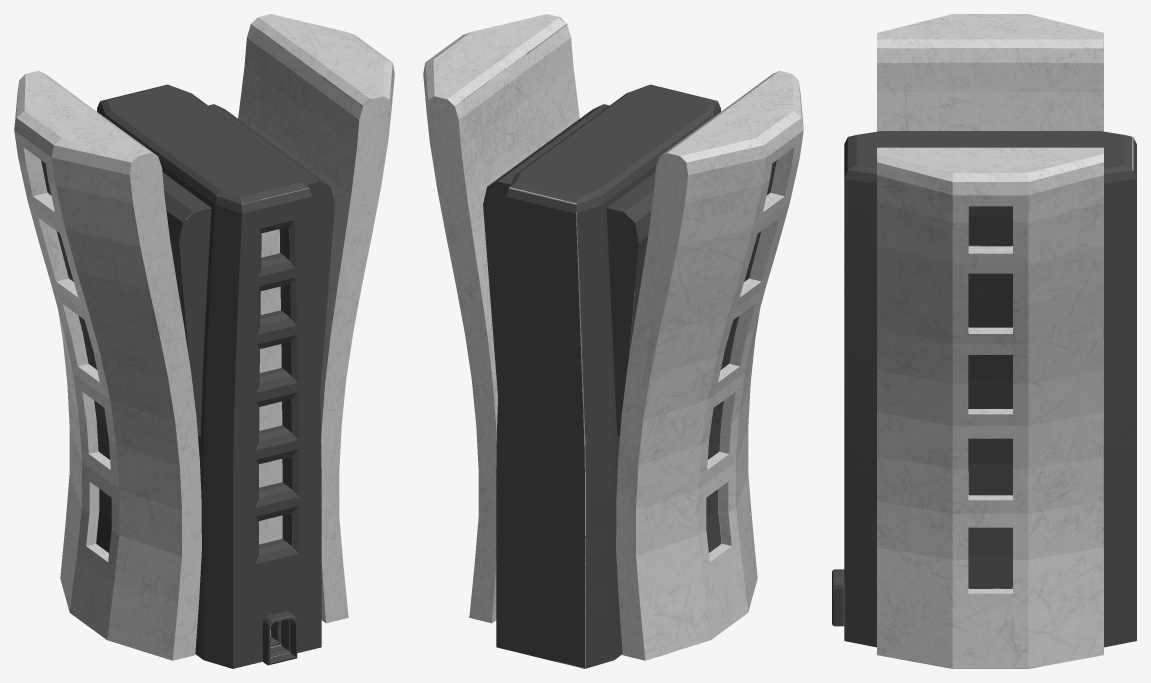
Rendered from NotPs5.fbx.
The picture shows the model from 3 angles, left to right: view 1: azimuth 30°, elevation 25°; view 2: azimuth 150°, elevation 25°; view 3: azimuth 270°, elevation 25°; orthographic projection.
Visible parts, largest first — view 1: Cube.001; view 2: Cube.001; view 3: Cube.001.
Boxes of the visible parts, x1,y1,x2,y2 form: Cube.001: [14, 14, 394, 668]; Cube.001: [423, 14, 803, 668]; Cube.001: [832, 14, 1136, 668].
Bounding box in the file's own units: 5838 × 8458 × 4445.
Materials: 1 (1 with a texture image).
